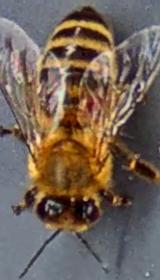varroa_mite: (70, 83, 108, 120)
